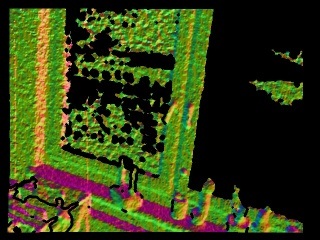station: (110, 156, 143, 214)
